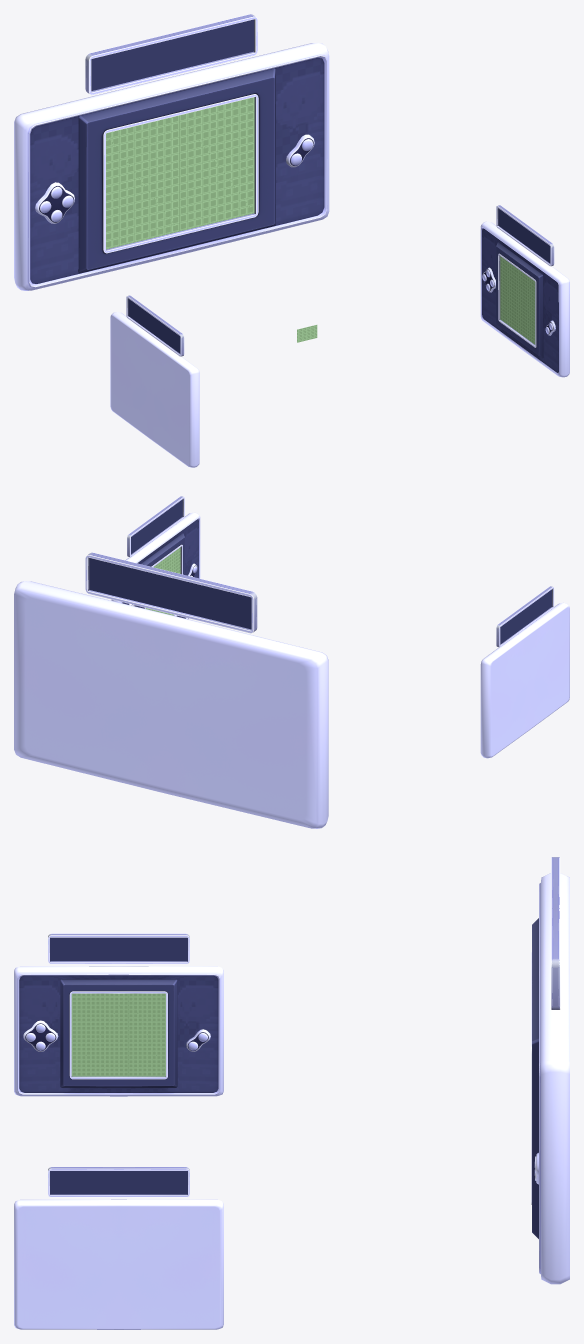
File: obj_frame.gltf
3 renders of one model, top to bottom at view 1: azimuth 30°, elevation 25°; view 2: azimuth 150°, elevation 25°; view 3: azimuth 270°, elevation 25°, orthographic. The views are drawn at different scales.
Parts seen in each view (by area): view 1: obj_grameboy, obj_button; view 2: obj_grameboy; view 3: obj_grameboy, obj_button.
Boxes of the visible parts, x1,y1,x2,y2 form: obj_grameboy: (14, 14, 569, 467); obj_button: (35, 134, 555, 335); obj_grameboy: (14, 496, 569, 828); obj_grameboy: (14, 857, 569, 1329); obj_button: (23, 1020, 538, 1184).
Size of what is drawn, in the model's own units: 14.4 by 8.52 by 14.13.
Materials: 4 (4 with a texture image).
